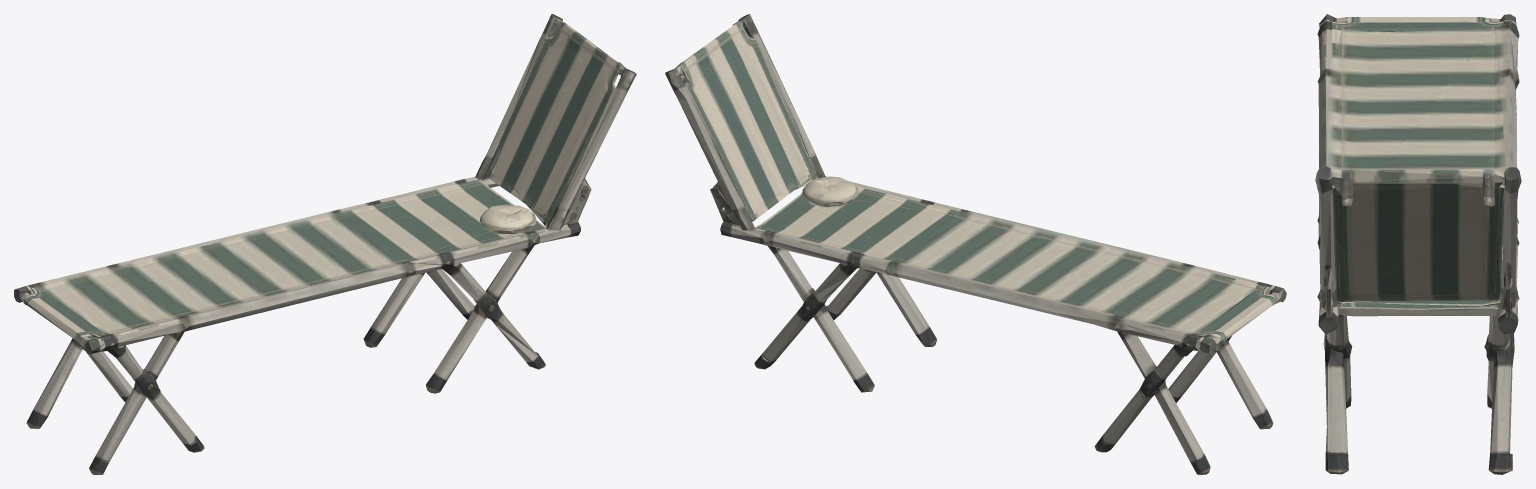
Rendered from landing-platform-lounger.glb.
3 renders of one model, left to right at view 1: azimuth 30°, elevation 25°; view 2: azimuth 150°, elevation 25°; view 3: azimuth 270°, elevation 25°, orthographic. The views are drawn at different scales.
Parts seen in each view (by area): view 1: output_unwrapped; view 2: output_unwrapped; view 3: output_unwrapped.
Part boxes in pixels (left/top/right/bottom): output_unwrapped: left=14, top=14, right=636, bottom=474; output_unwrapped: left=665, top=14, right=1286, bottom=474; output_unwrapped: left=1315, top=14, right=1521, bottom=474.
Bounding box in the file's own units: 1.9 × 0.929 × 0.4863.
Materials: 1 (1 with a texture image).
